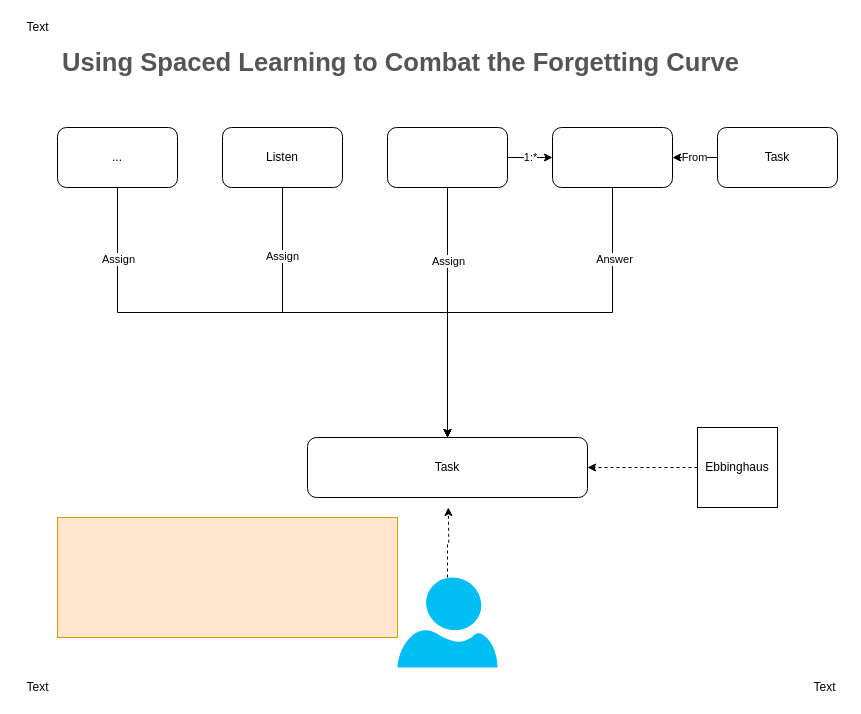
This 861x714 diagram has some shape labels left out. The centre of each missing label's shape, as x and y in pixels:
Quiz: the point at 447,157
QuizItem: the point at 612,157
Task Flow 用户回答QuizItem后将生成相应的Task，Task将进入Ebbinghaus遗忘曲线对抗流程: the point at 227,577
